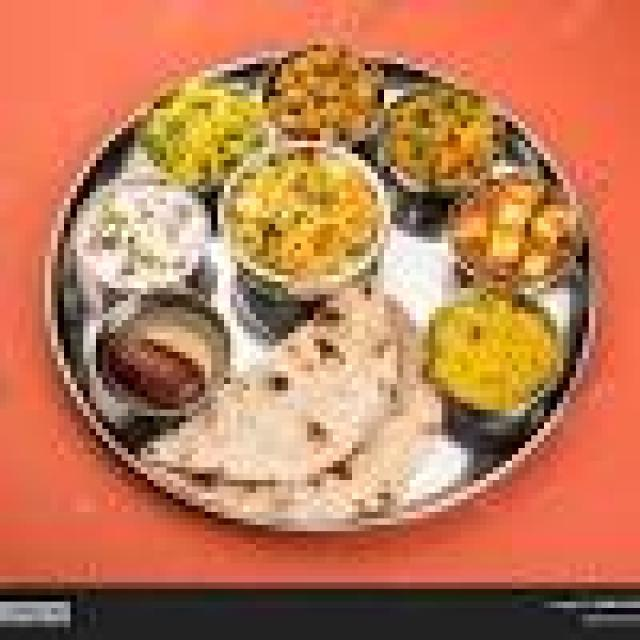dal: (217, 141, 385, 307), (132, 71, 263, 198), (429, 296, 565, 418)
roti: (201, 290, 445, 520)
sweet: (95, 301, 226, 424)
veg-fry: (88, 299, 232, 424), (377, 66, 500, 203)
